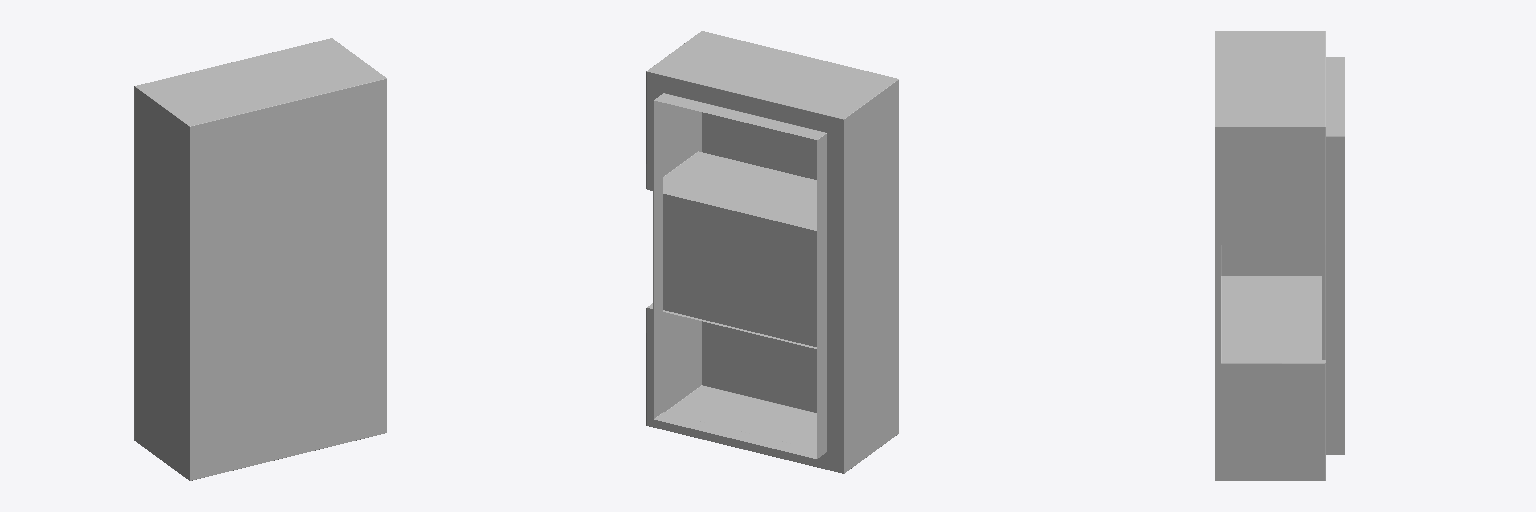
Rendered from CoffeeTable.obj.
3 views of the same model, side by side, from view 1: azimuth 30°, elevation 25°; view 2: azimuth 150°, elevation 25°; view 3: azimuth 270°, elevation 25° (orthographic).
Visible parts, largest first — view 1: CoffeeTable; view 2: CoffeeTable; view 3: CoffeeTable.
Part boxes in pixels (bbox=[...]): CoffeeTable: bbox=[134, 38, 386, 480]; CoffeeTable: bbox=[646, 31, 898, 473]; CoffeeTable: bbox=[1215, 31, 1344, 480].
Size of the model in its own units: 0.7 by 1.2 by 0.4.